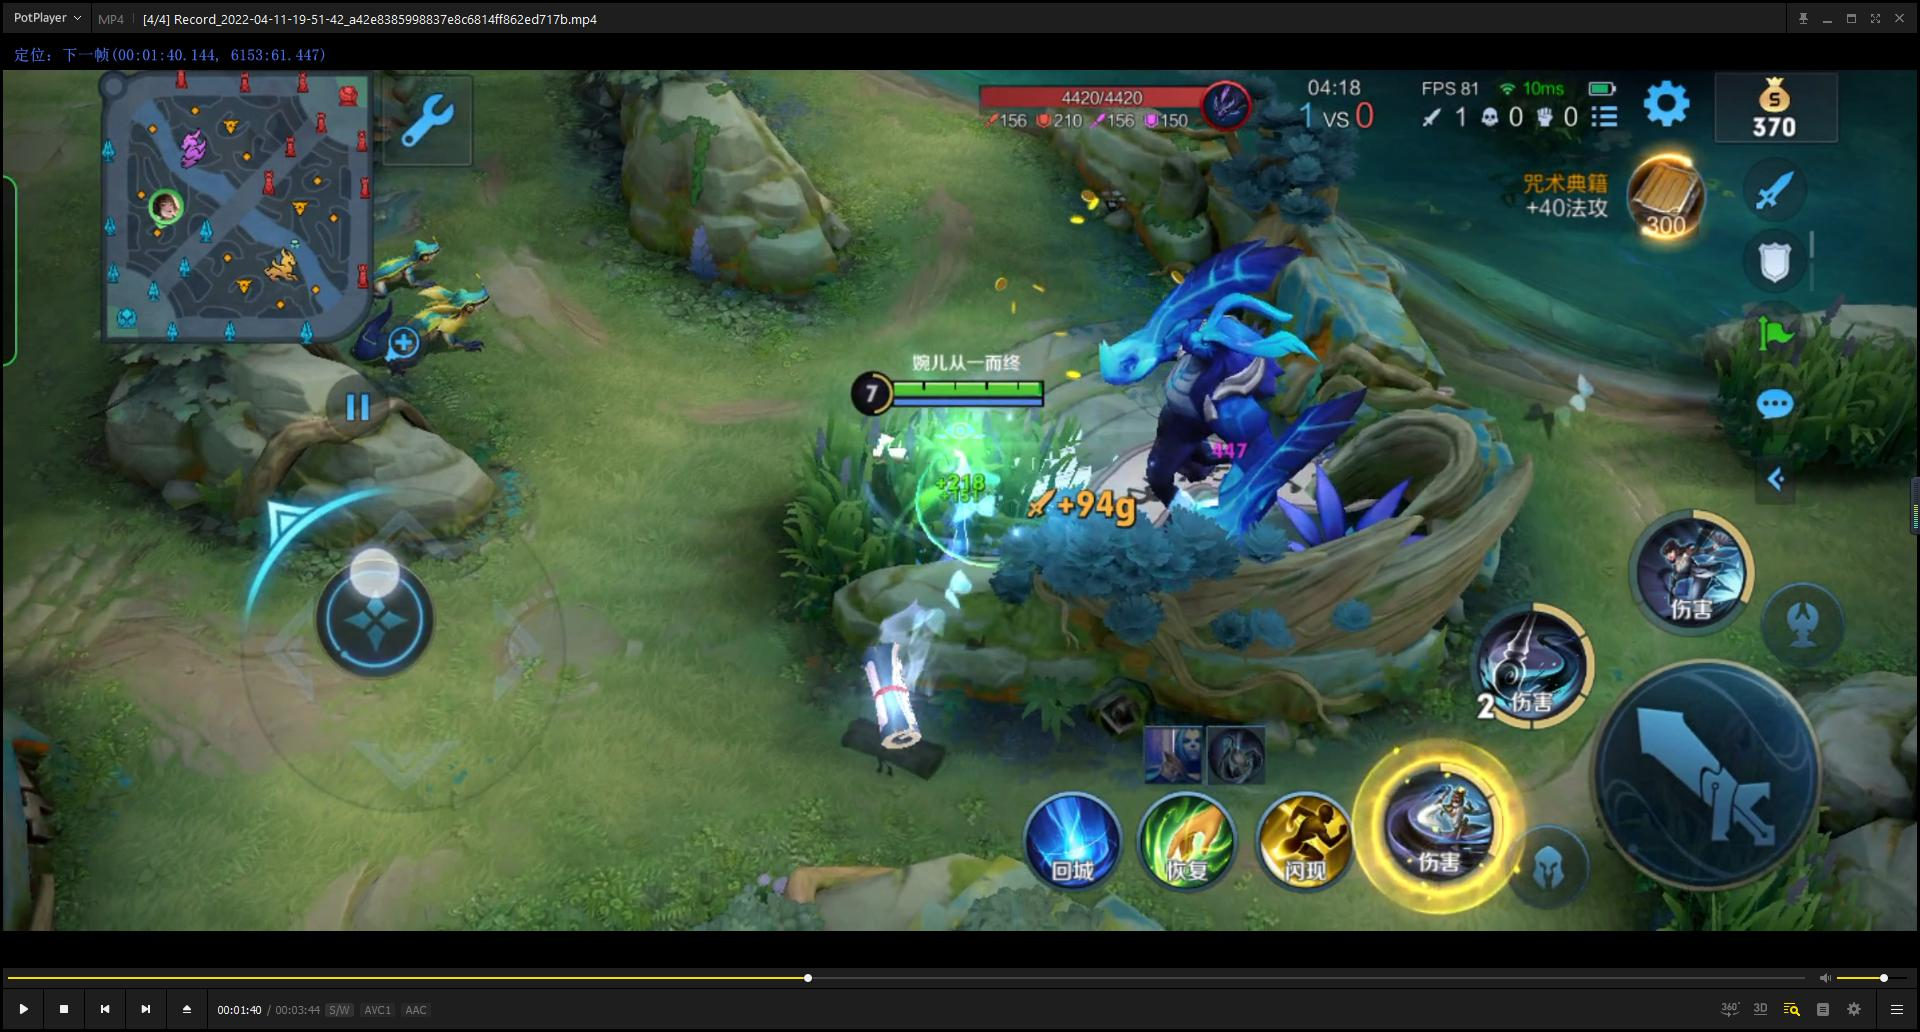Buff: (1037, 257, 1347, 531)
Hero: (854, 426, 1065, 571)
Lizard: (321, 271, 504, 372), (365, 231, 468, 287)
